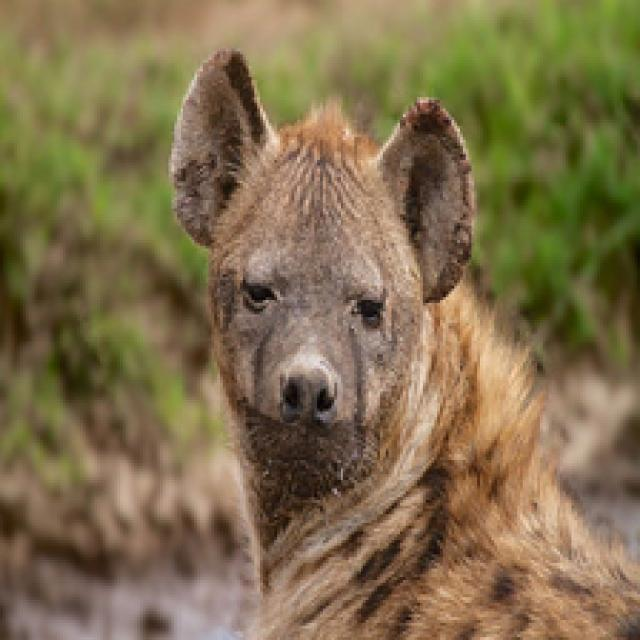hyena: (158, 37, 640, 640)
